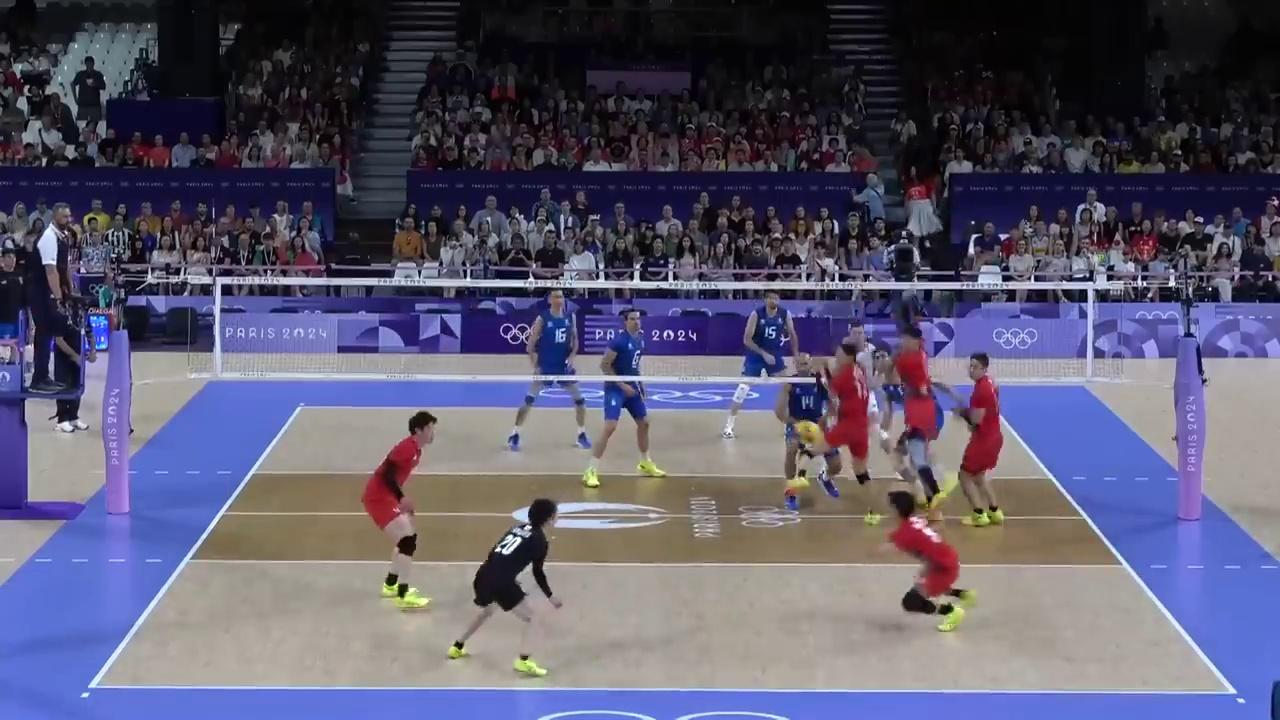ball: (797, 423, 827, 448)
